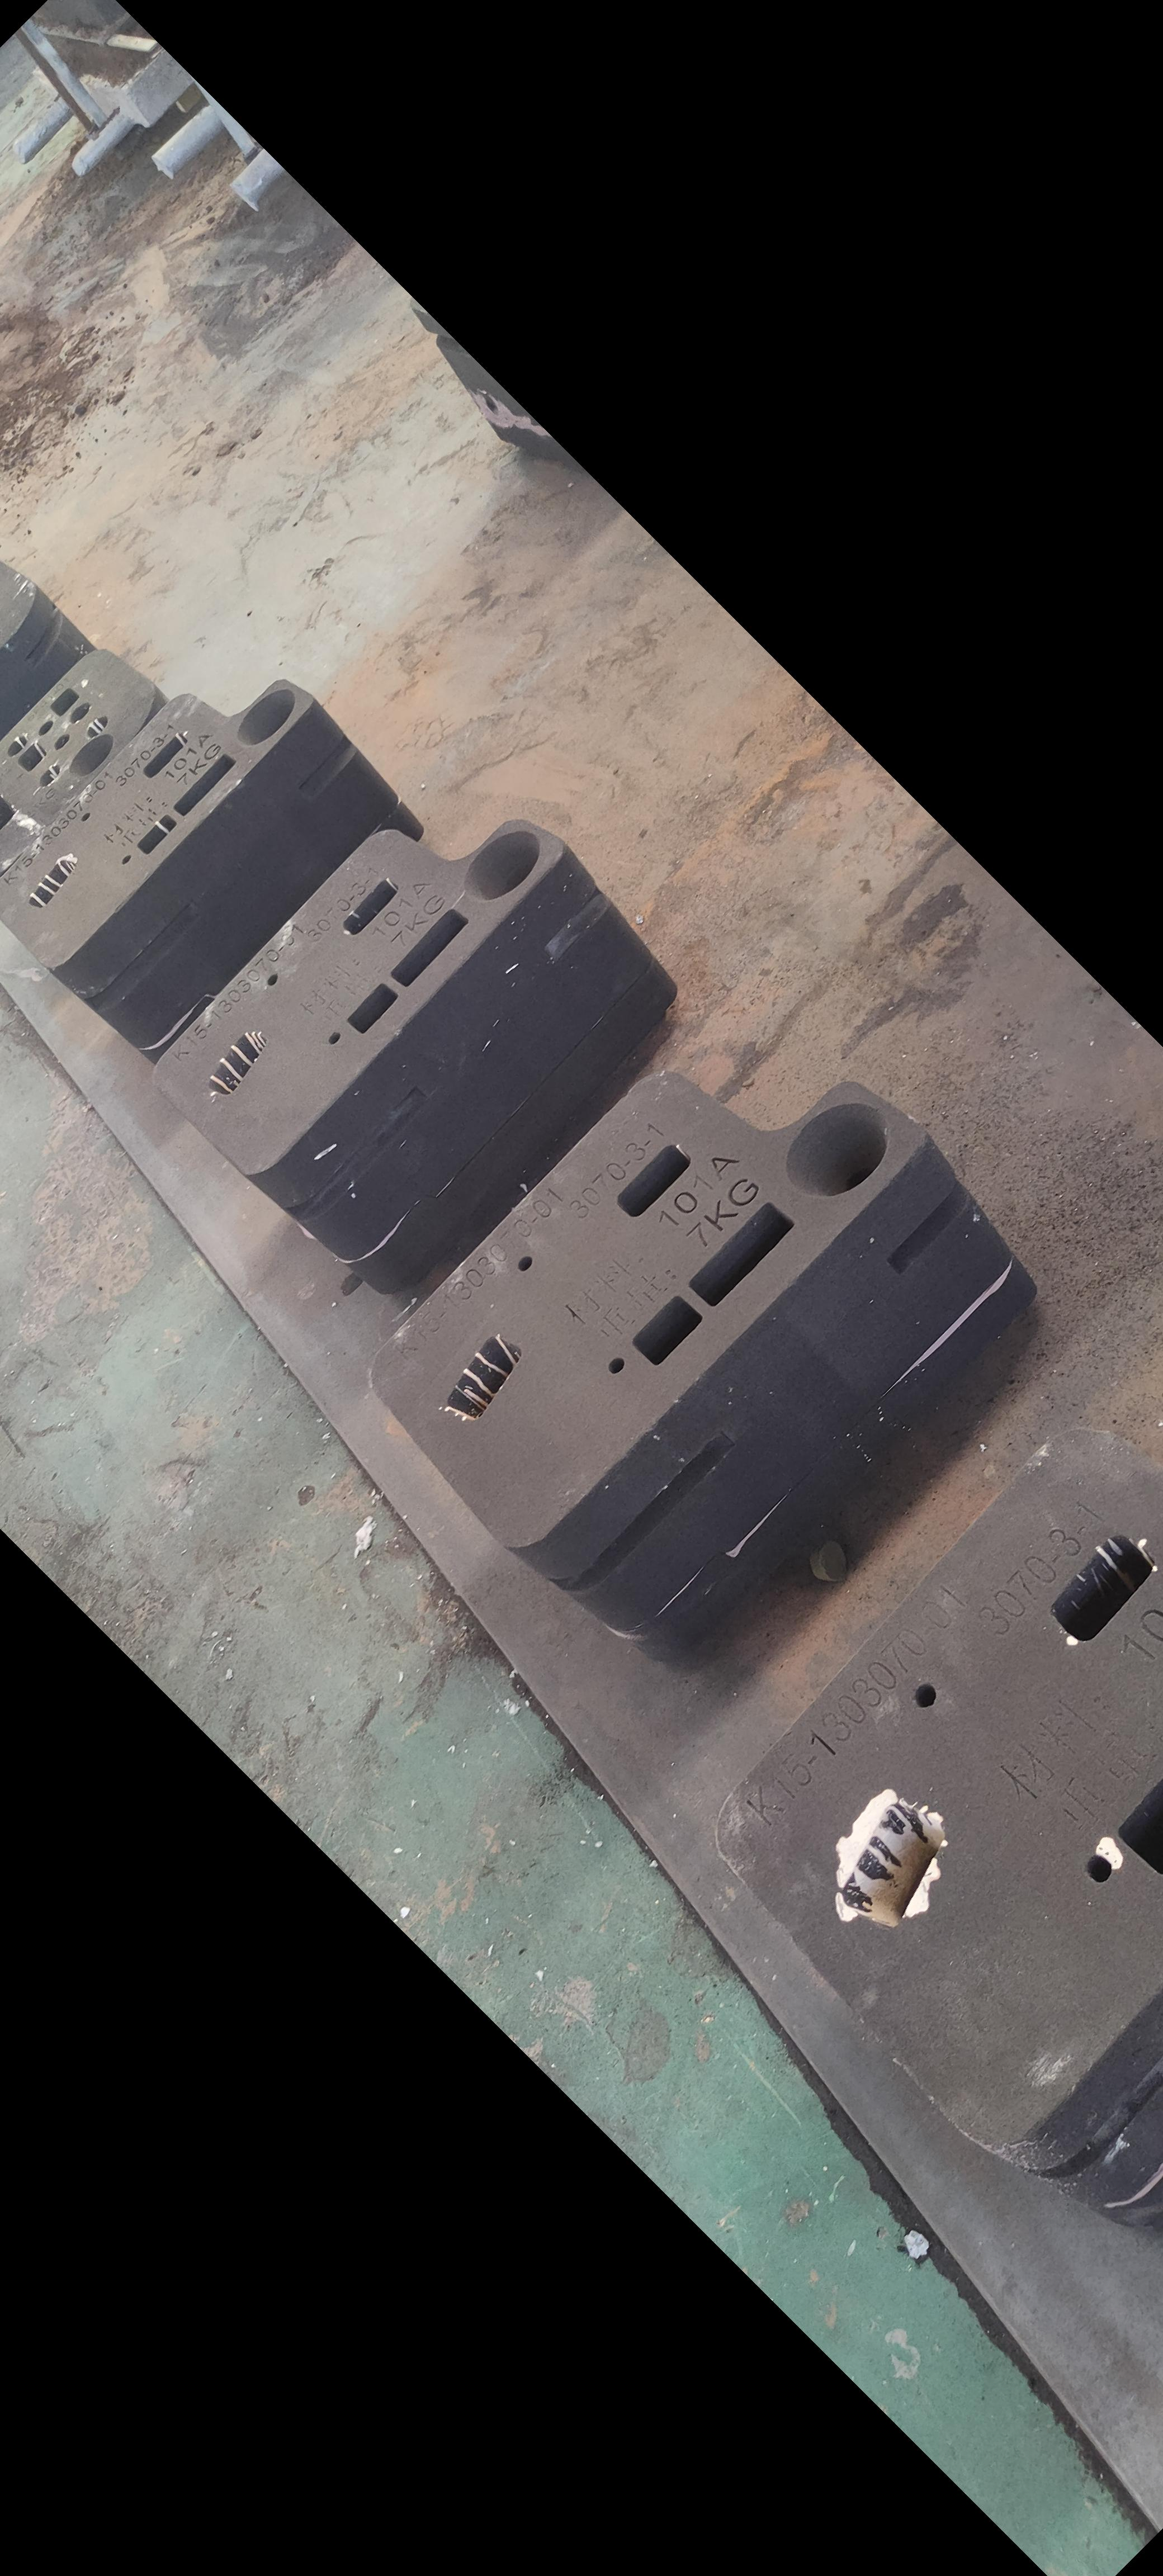pouring hole: (785, 1102, 887, 1198), (465, 831, 540, 902), (237, 688, 296, 746), (69, 733, 113, 777)
